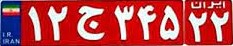character: (74, 2, 109, 46), (45, 1, 73, 46), (110, 1, 137, 46), (158, 1, 183, 44), (136, 1, 158, 44), (209, 9, 232, 43), (25, 3, 43, 46), (188, 9, 208, 43)
